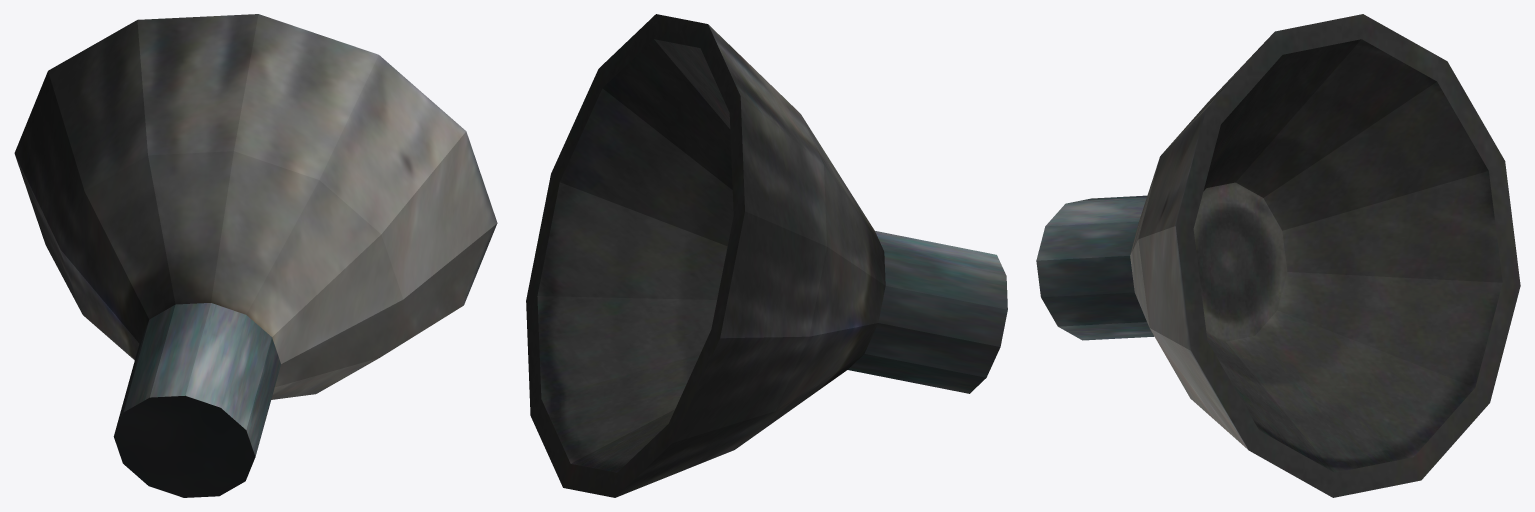
The model's file is RTB1101220801_0347L_02_normalization.obj.
The picture shows the model from 3 angles, left to right: view 1: azimuth 30°, elevation 25°; view 2: azimuth 150°, elevation 25°; view 3: azimuth 270°, elevation 25°; orthographic projection. The views are drawn at different scales.
Visible parts, largest first — view 1: RTB1101220801_0347S_02; view 2: RTB1101220801_0347S_02; view 3: RTB1101220801_0347S_02.
Boxes of the visible parts, x1,y1,x2,y2 form: RTB1101220801_0347S_02: (14,14,497,497); RTB1101220801_0347S_02: (526,14,1007,497); RTB1101220801_0347S_02: (1036,14,1520,497).
Bounding box in the file's own units: 0.5785 × 0.5609 × 0.5922.
Materials: 1 (1 with a texture image).
